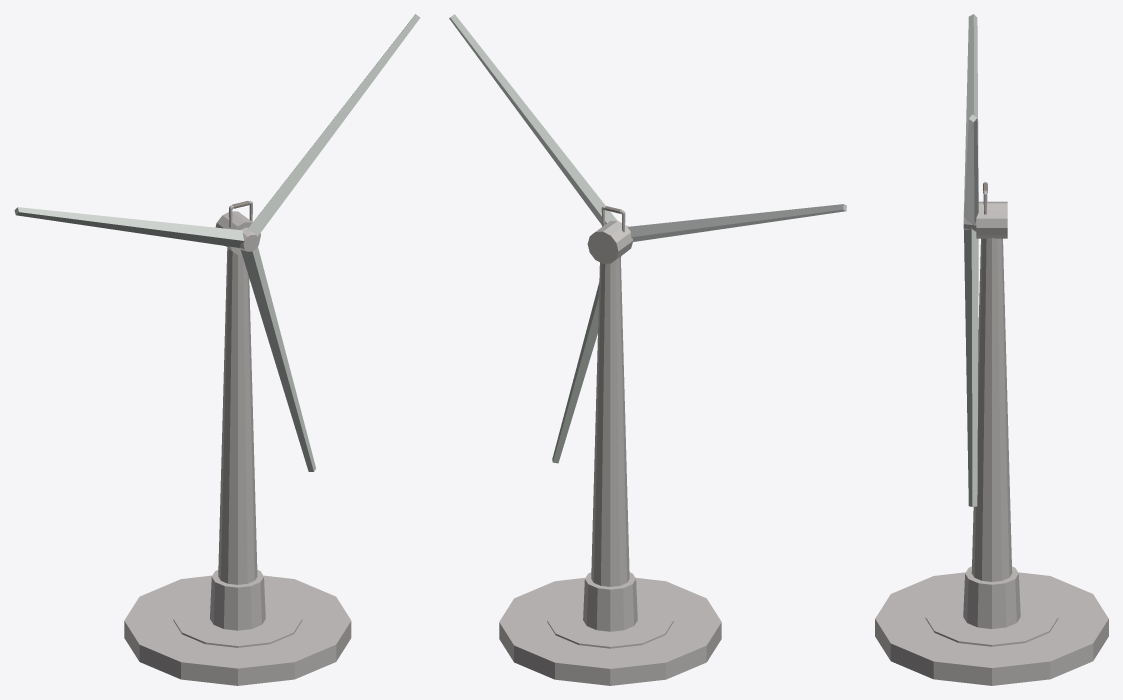
Rendered from Windturbine_1.fbx.
3 renders of one model, left to right at view 1: azimuth 30°, elevation 25°; view 2: azimuth 150°, elevation 25°; view 3: azimuth 270°, elevation 25°, orthographic. The views are drawn at different scales.
Visible parts, largest first — view 1: Windturbine_1, Windturbine_1.001; view 2: Windturbine_1, Windturbine_1.001; view 3: Windturbine_1, Windturbine_1.001.
Part boxes in pixels (x1,y1,x2,y2): Windturbine_1: (14,200,351,685); Windturbine_1.001: (16,14,420,471); Windturbine_1: (499,204,846,685); Windturbine_1.001: (449,14,846,463); Windturbine_1: (875,114,1108,685); Windturbine_1.001: (963,14,978,506).
Size of the model in its own units: 617 by 858 by 300.
